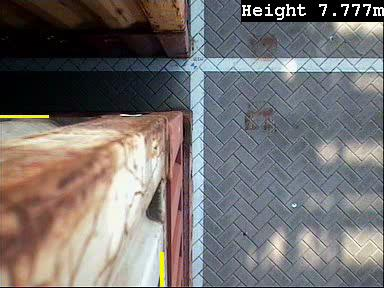groundmarker_2: (201, 39, 237, 101)
